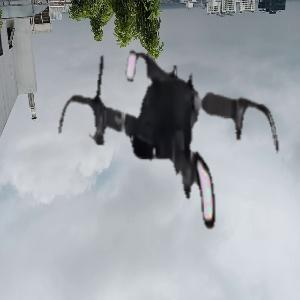drone: (49, 30, 285, 266)
